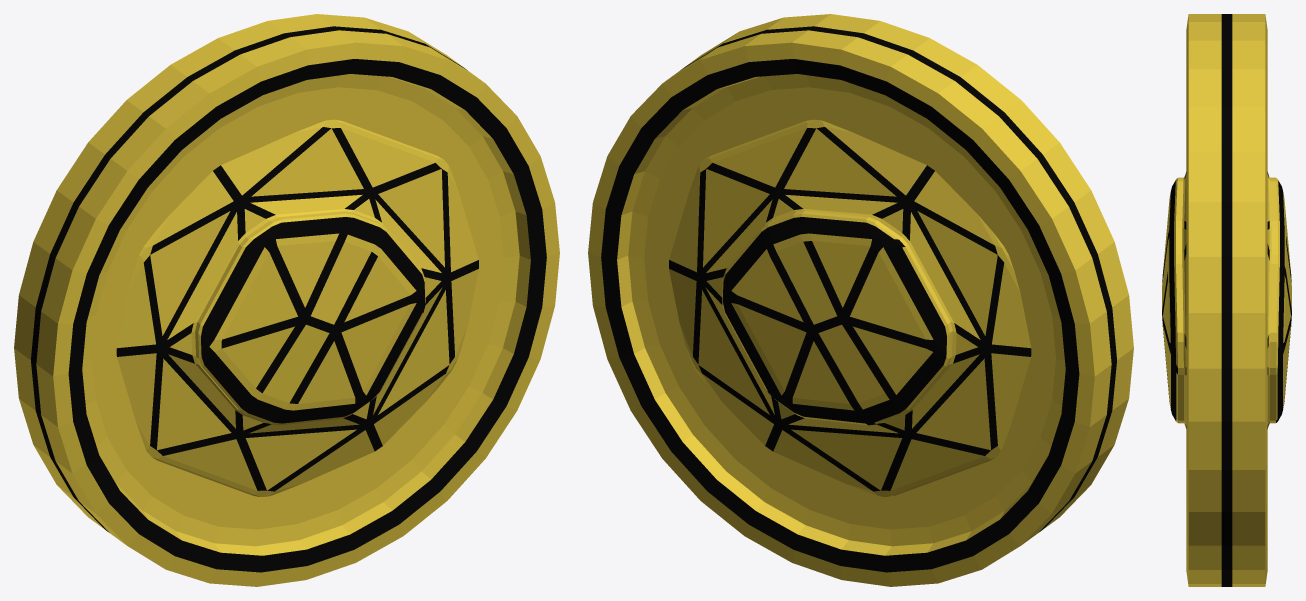
Rendered from coin.fbx.
The picture shows the model from 3 angles, left to right: view 1: azimuth 30°, elevation 25°; view 2: azimuth 150°, elevation 25°; view 3: azimuth 270°, elevation 25°; orthographic projection. The views are drawn at different scales.
Visible parts, largest first — view 1: Coin; view 2: Coin; view 3: Coin.
Boxes of the visible parts, x1,y1,x2,y2 form: Coin: [14, 14, 559, 586]; Coin: [588, 14, 1133, 586]; Coin: [1162, 14, 1291, 586].
Size of the model in its own units: 200 by 200 by 45.22.
